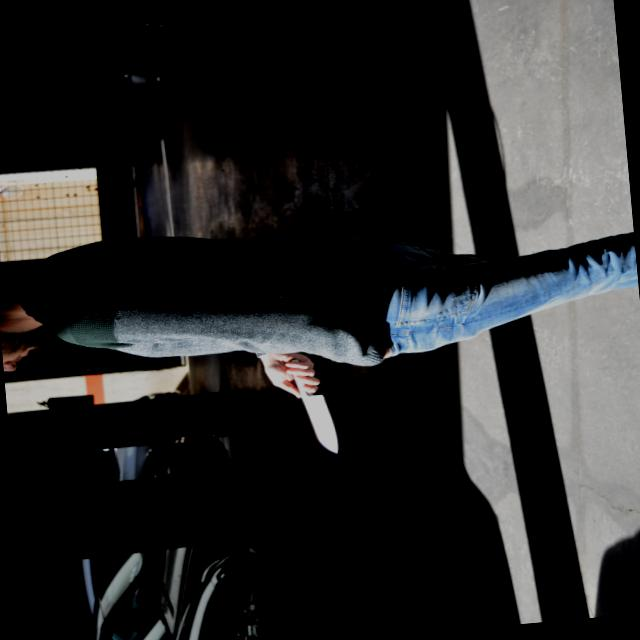knife: (282, 352, 342, 462)
